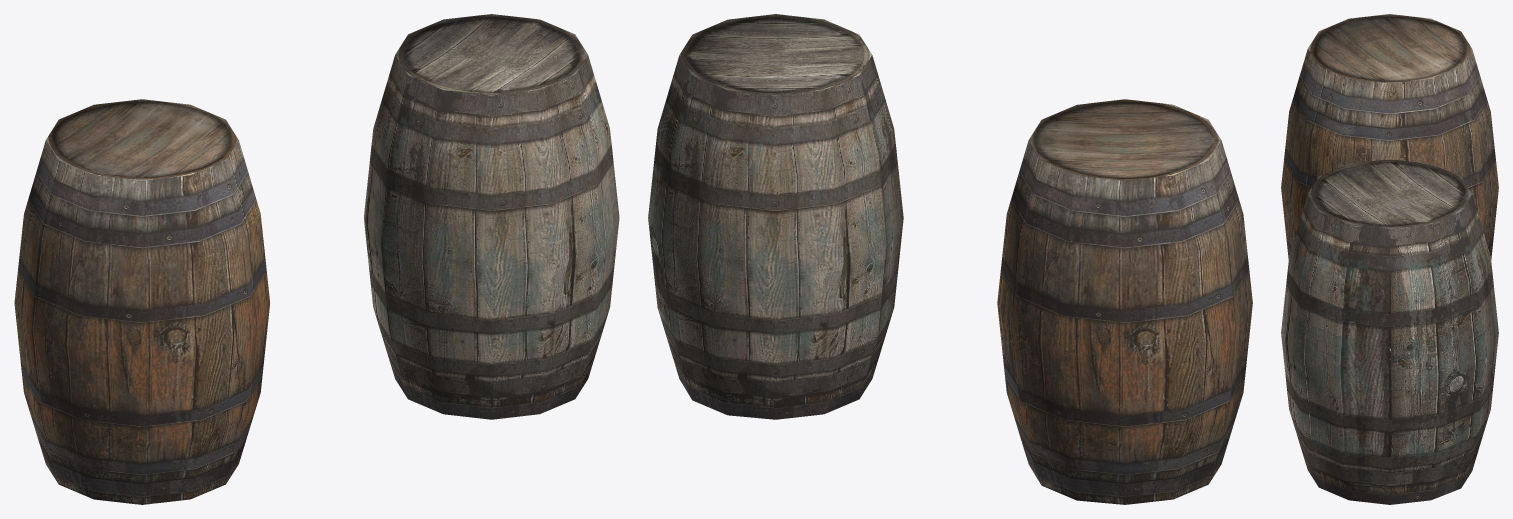
Rendered from barril.obj.
The picture shows the model from 3 angles, left to right: view 1: azimuth 30°, elevation 25°; view 2: azimuth 150°, elevation 25°; view 3: azimuth 270°, elevation 25°; orthographic projection. The views are drawn at different scales.
Visible parts, largest first — view 1: WoodenBarrel; view 2: WoodenBarrel; view 3: WoodenBarrel.
Part boxes in pixels (x1,y1,x2,y2): WoodenBarrel: [14, 14, 619, 504]; WoodenBarrel: [648, 14, 1252, 504]; WoodenBarrel: [1281, 14, 1498, 504].
Size of the model in its own units: 3.27 by 1.78 by 1.27.
